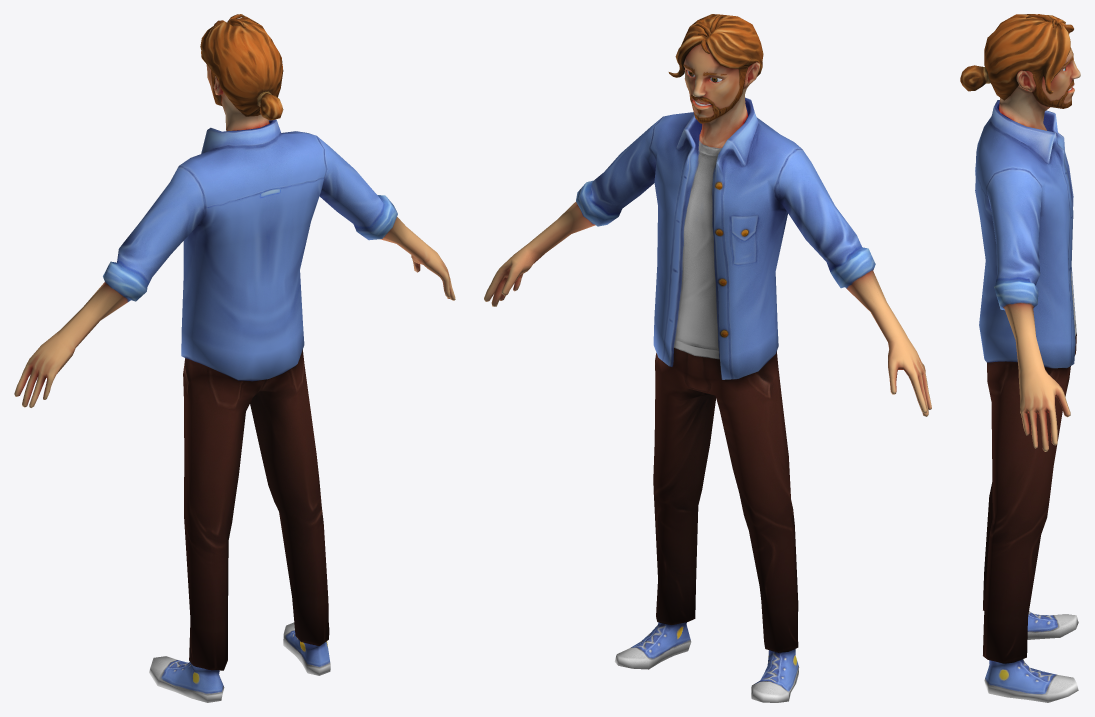
The model's file is player.glb.
The picture shows the model from 3 angles, left to right: view 1: azimuth 30°, elevation 25°; view 2: azimuth 150°, elevation 25°; view 3: azimuth 270°, elevation 25°; orthographic projection. The views are drawn at different scales.
Visible parts, largest first — view 1: Game ready character; view 2: Game ready character; view 3: Game ready character.
Boxes of the visible parts, bbox=[...] form: Game ready character: bbox=[14, 14, 455, 702]; Game ready character: bbox=[484, 14, 931, 702]; Game ready character: bbox=[960, 14, 1080, 702].
Size of the model in its own units: 39.99 by 57.2 by 9.63.
Materials: 2 (1 with a texture image).
